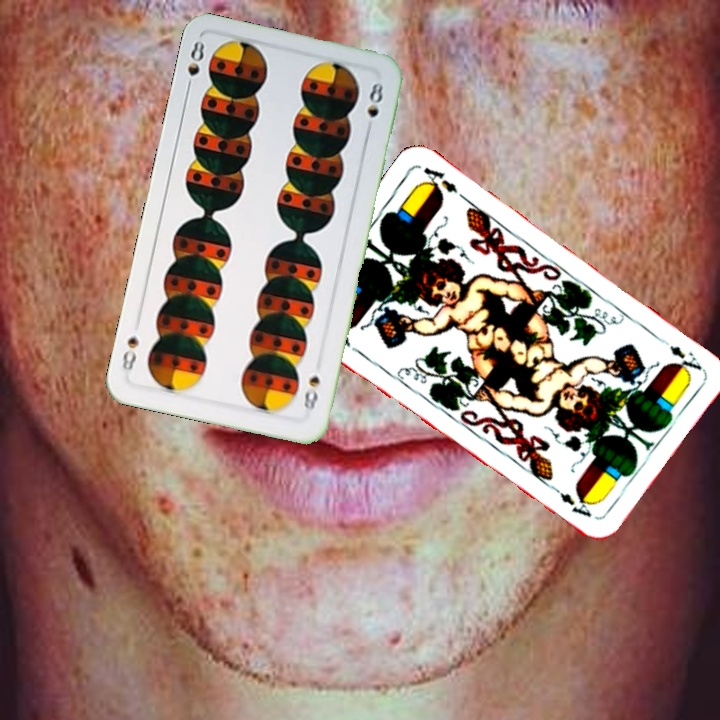EA: (654, 333, 705, 378)
S8: (182, 36, 207, 95), (299, 372, 323, 413)
